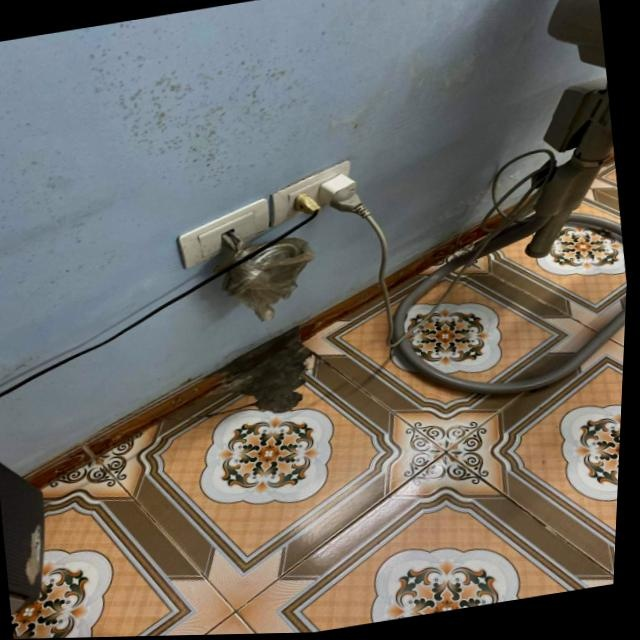outlet: (172, 197, 276, 270), (265, 158, 360, 227)
